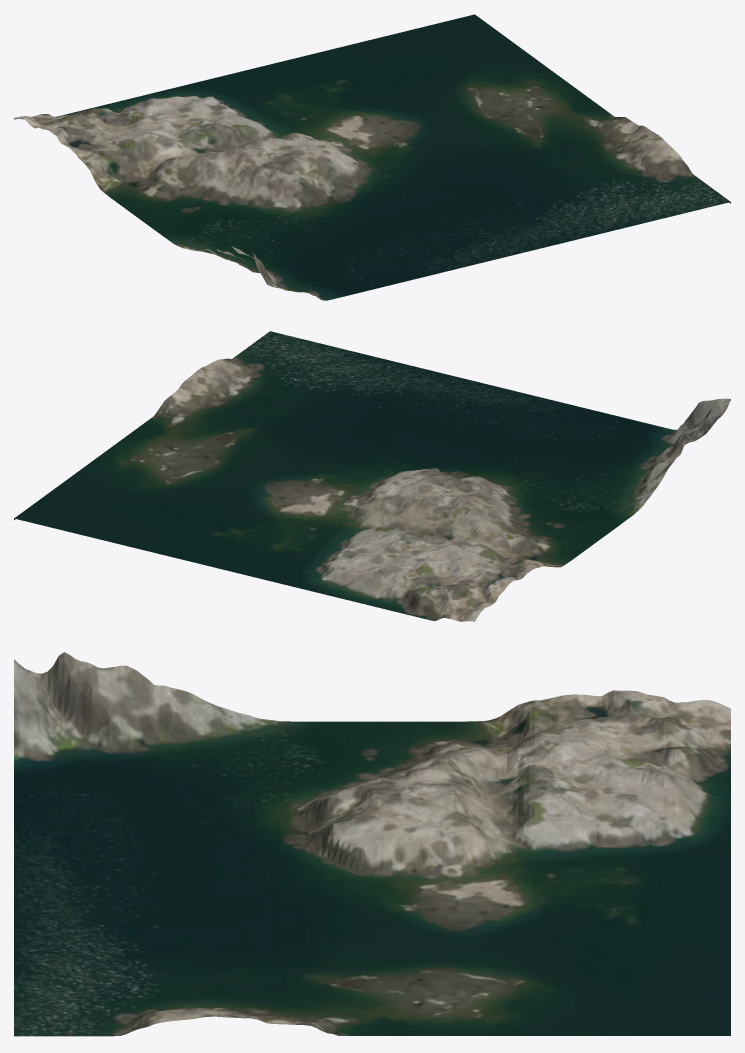
3 renders of one model, top to bottom at view 1: azimuth 30°, elevation 25°; view 2: azimuth 150°, elevation 25°; view 3: azimuth 270°, elevation 25°, orthographic. The views are drawn at different scales.
Bounding box in the file's own units: 250 × 26.77 × 241.
Materials: 1 (1 with a texture image).
